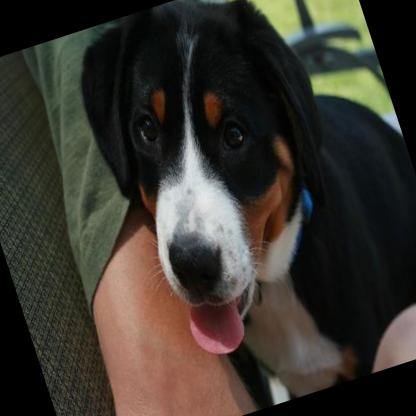Greater_Swiss_Mountain_dog: (58, 0, 416, 416)
